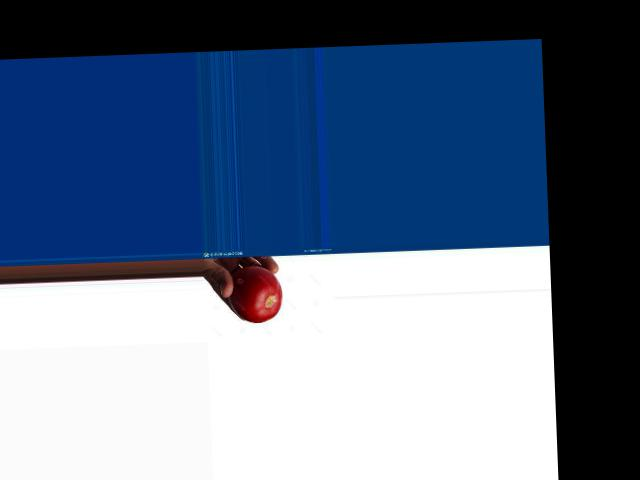tomato: (227, 264, 283, 323)
